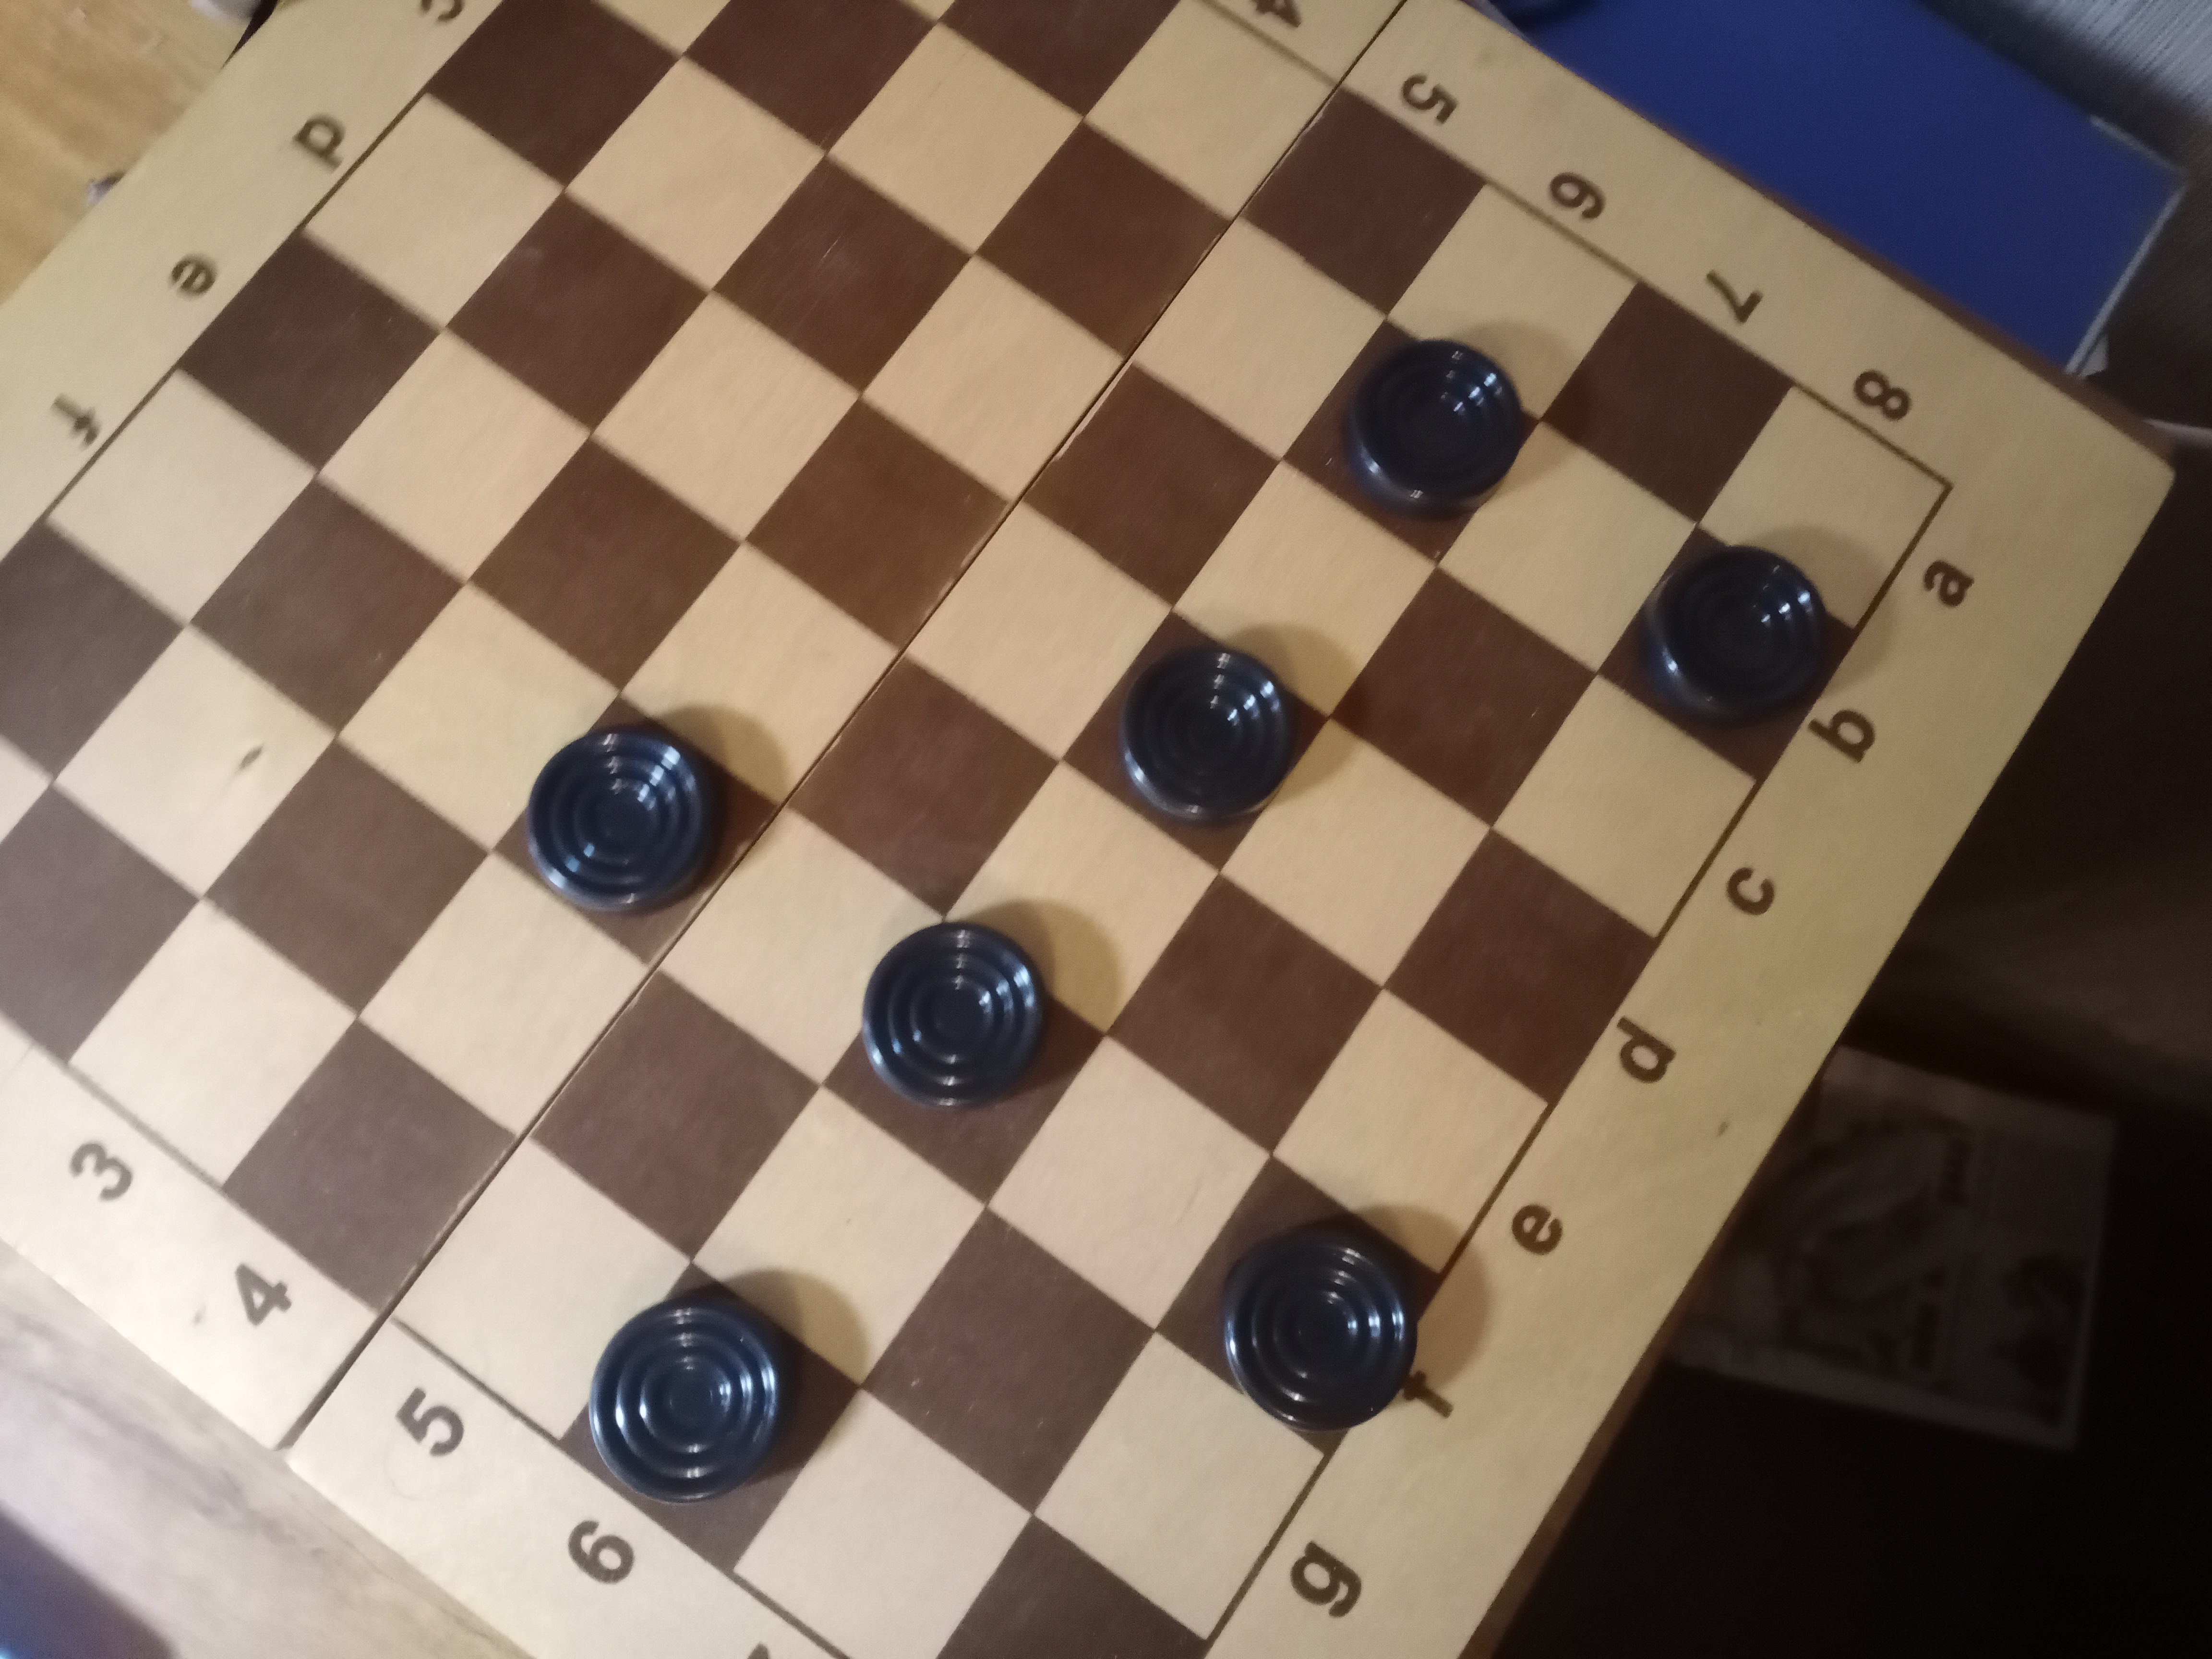Black_Draught: (557, 1260, 860, 1575), (1153, 1159, 1444, 1457), (826, 920, 1106, 1208), (491, 695, 782, 964), (1062, 612, 1332, 873), (1595, 528, 1862, 782), (1282, 319, 1543, 566)
